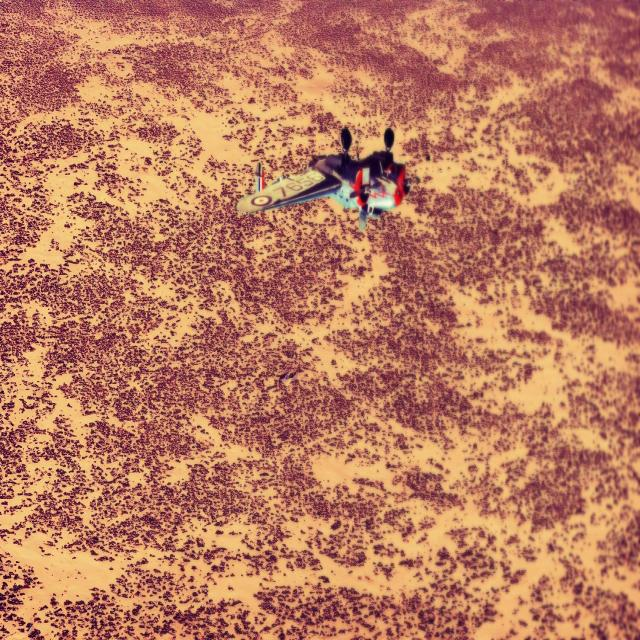airplane: (236, 125, 412, 232)
